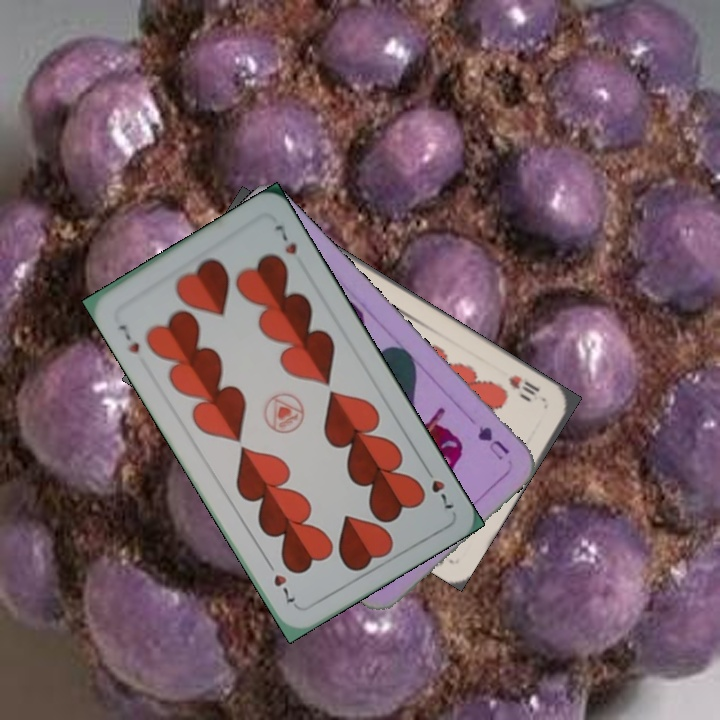GU: (473, 422, 512, 463)
H10: (504, 370, 543, 398)
H7: (419, 462, 456, 512), (114, 320, 142, 356)
